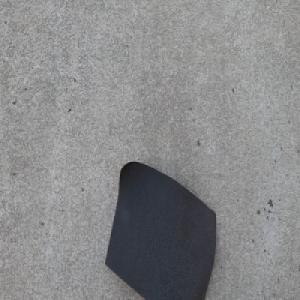PaintChip: (104, 160, 217, 300)
